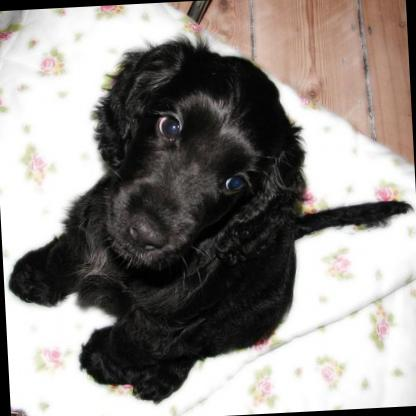cocker_spaniel: (0, 23, 416, 410)
